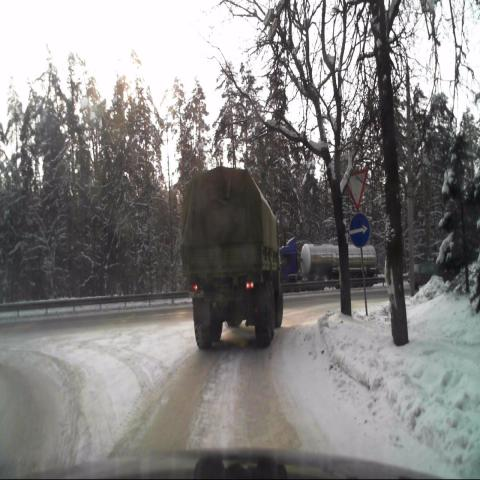4_1_2_1: (349, 214, 370, 248)
